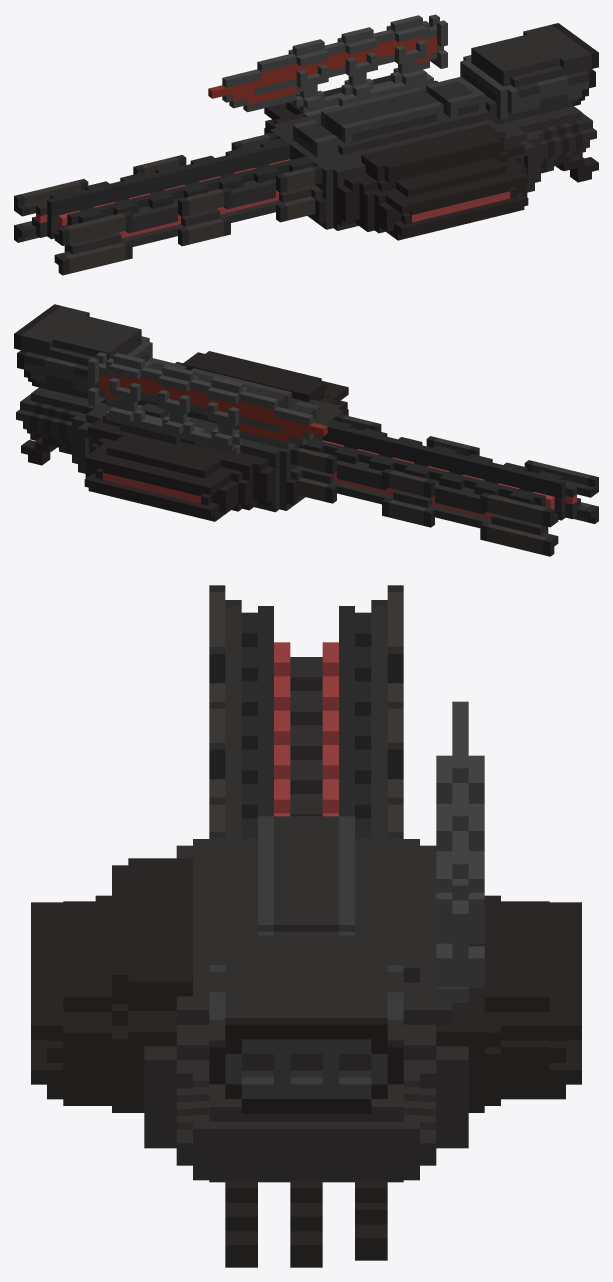
File: infinity_tank-0.obj
3 renders of one model, top to bottom at view 1: azimuth 30°, elevation 25°; view 2: azimuth 150°, elevation 25°; view 3: azimuth 270°, elevation 25°, orthographic. The views are drawn at different scales.
Bounding box in the file's own units: 7.7 × 2 × 3.4.
